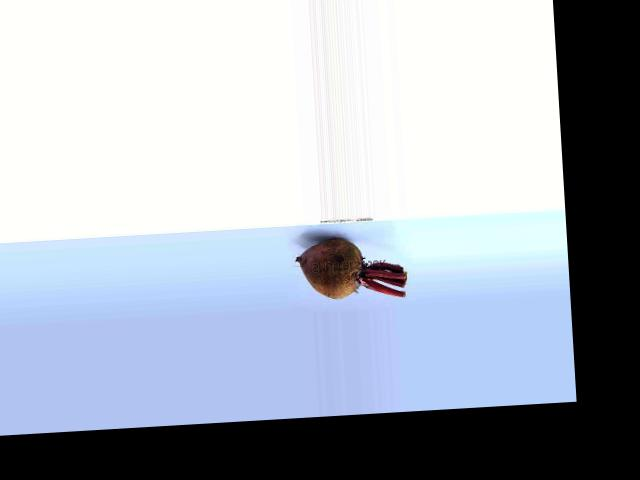beet: (296, 234, 406, 301)
